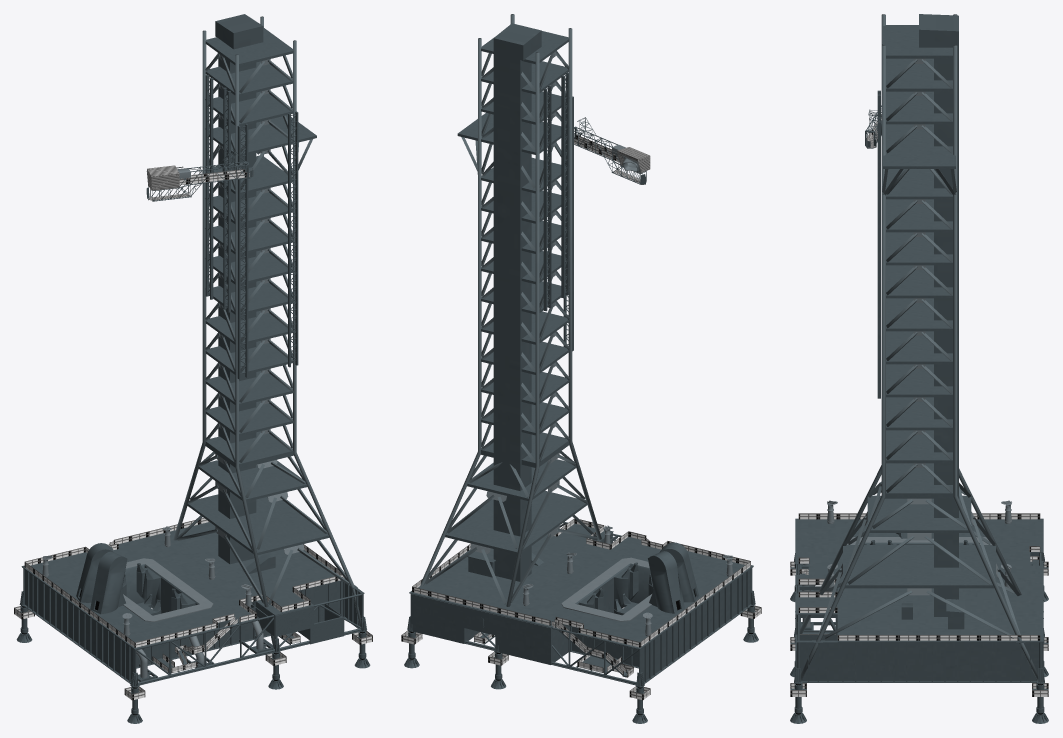
File: MobileLauncher.fbx
The picture shows the model from 3 angles, left to right: view 1: azimuth 30°, elevation 25°; view 2: azimuth 150°, elevation 25°; view 3: azimuth 270°, elevation 25°; orthographic projection. The views are drawn at different scales.
Visible parts, largest first — view 1: ML_Base, ML_Railings; view 2: ML_Base, ML_Railings; view 3: ML_Base, ML_Railings.
Boxes of the visible parts, x1,y1,x2,y2 form: ML_Base: (16,14,370,723); ML_Railings: (14,169,372,700); ML_Base: (404,14,758,723); ML_Railings: (401,134,761,700); ML_Base: (790,14,1048,723); ML_Railings: (790,114,1048,696).
Bounding box in the file's own units: 5043 × 12192 × 4290.
2 materials, 2 textured.
